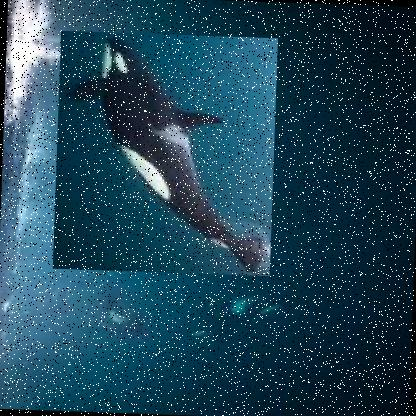killer_whale: (52, 30, 278, 276)
